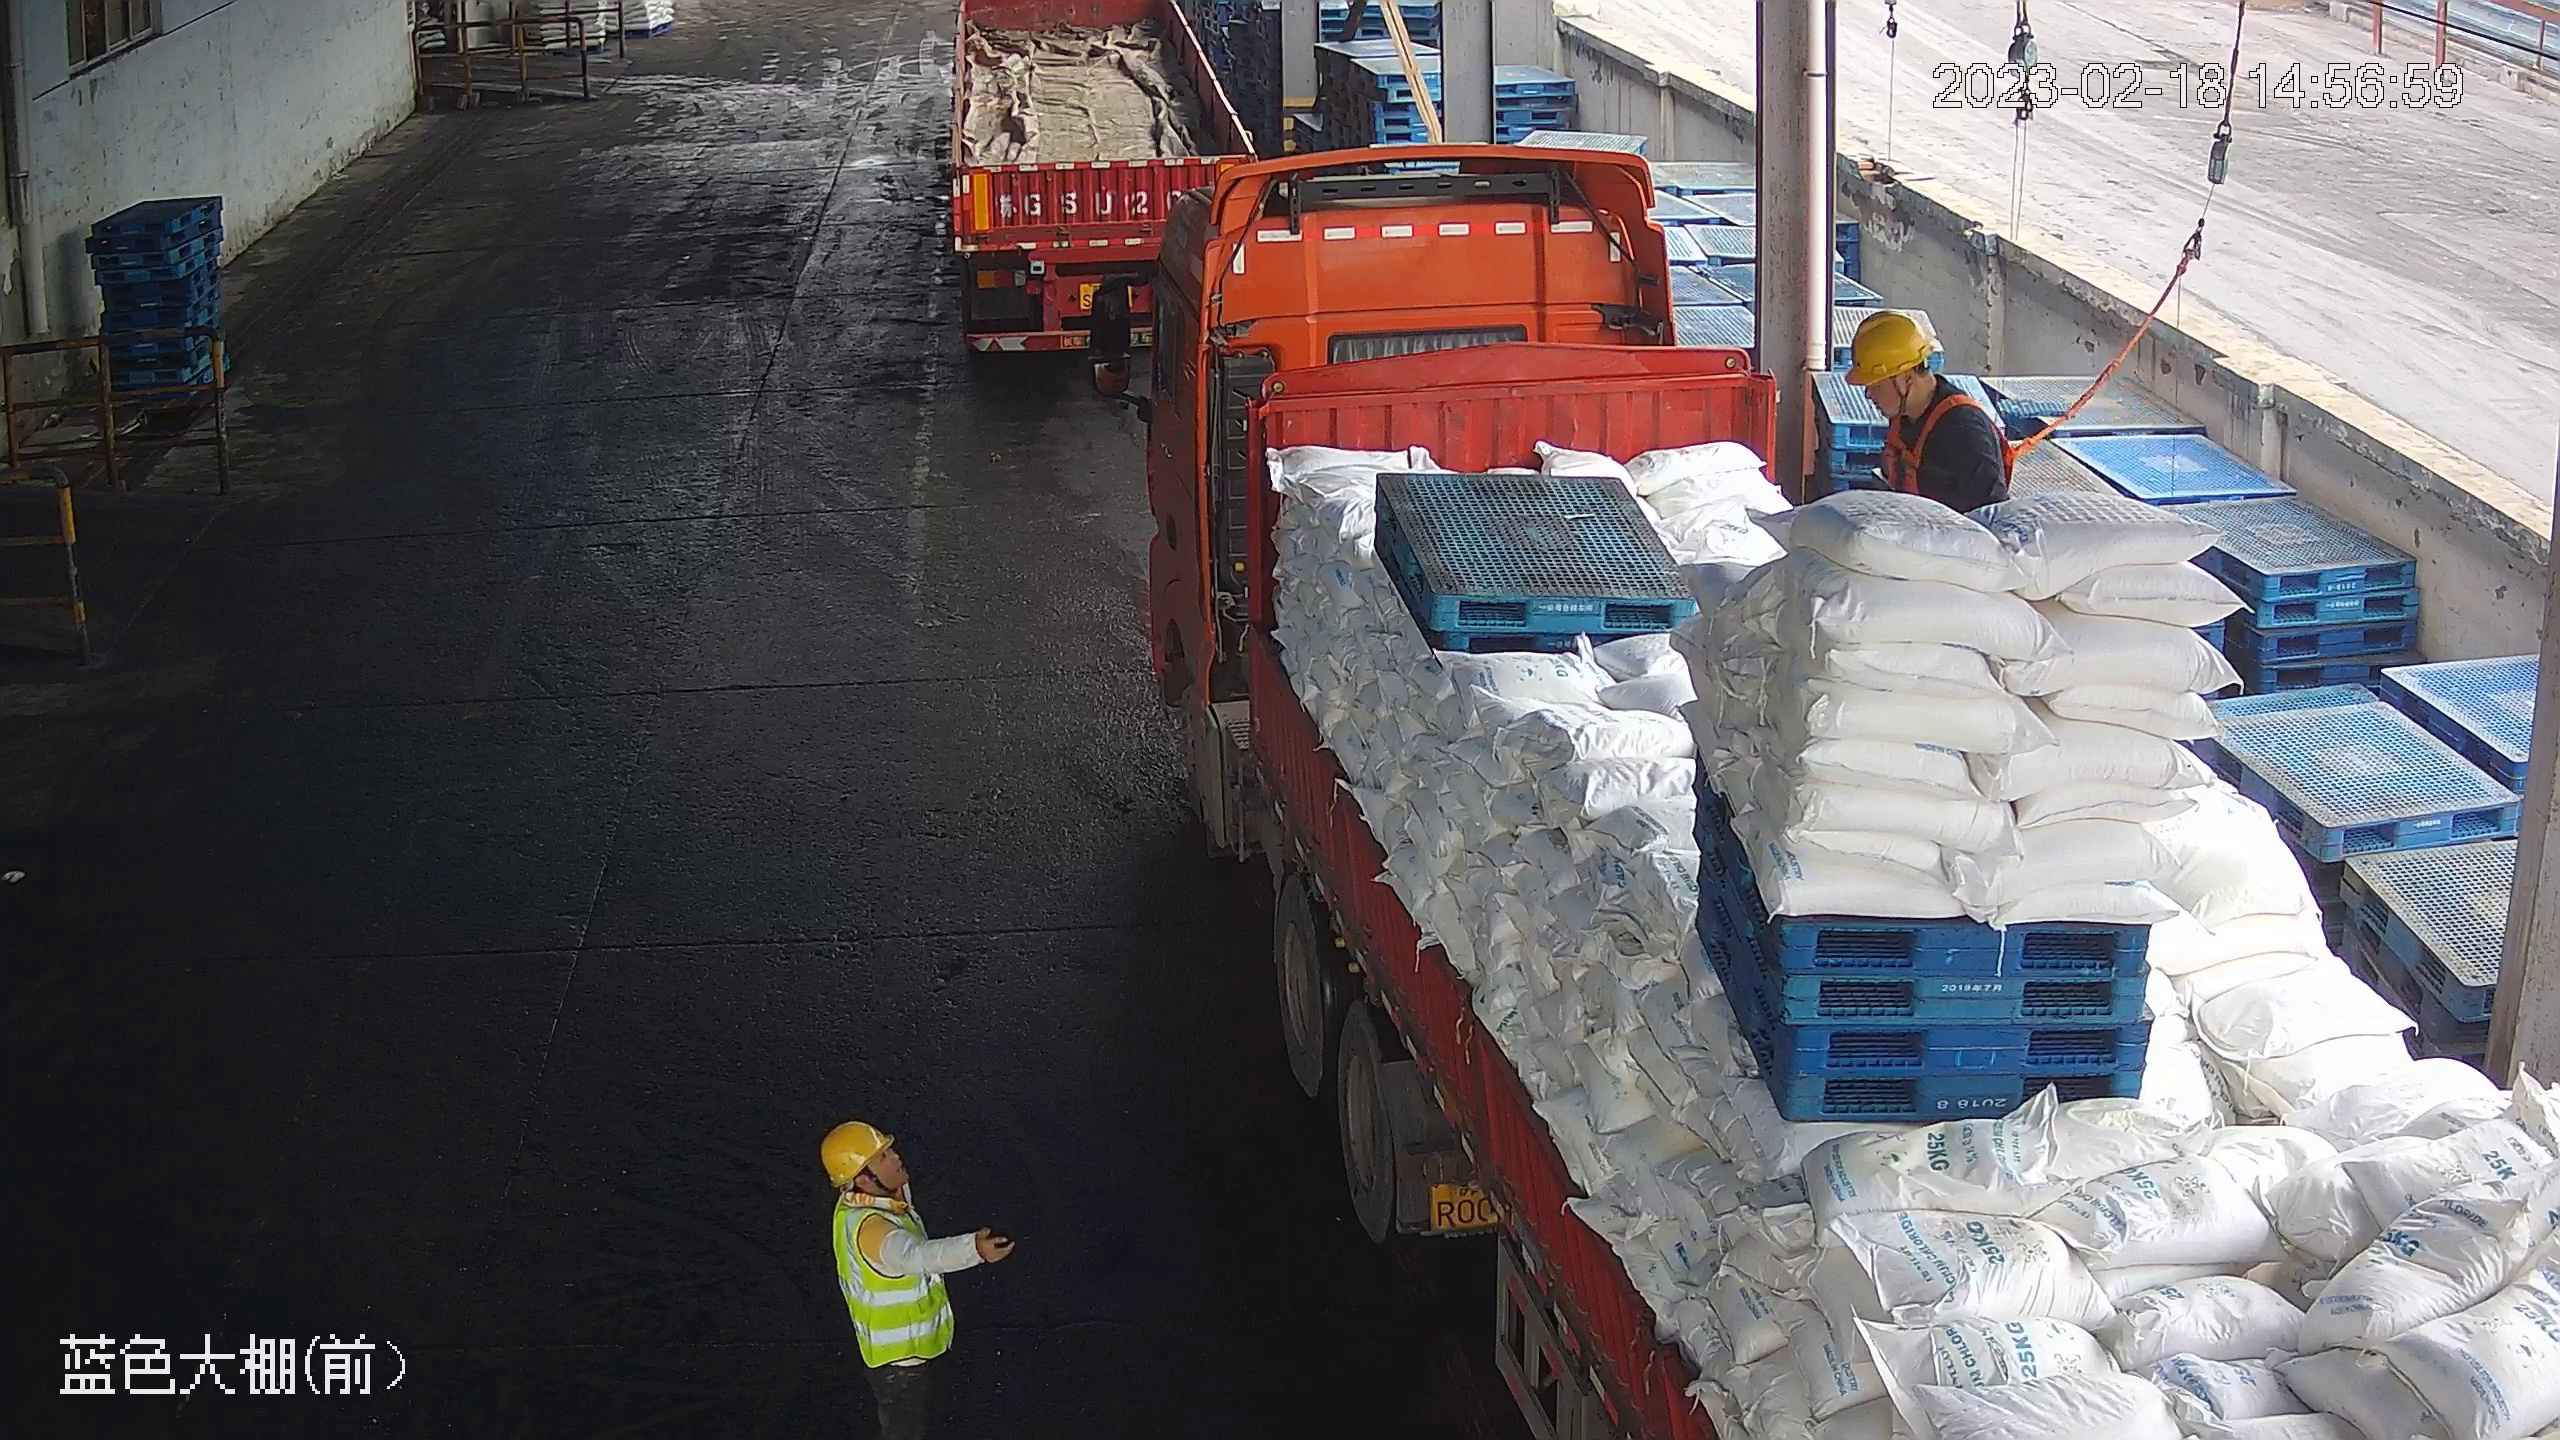belt: (1891, 394, 2018, 494)
head: (1843, 311, 2007, 472), (818, 1118, 933, 1246)
helmet: (1841, 308, 1934, 383), (823, 1120, 891, 1185)
people: (813, 1117, 1016, 1438)
truck: (1076, 156, 2555, 1440), (934, 1, 1262, 381)
